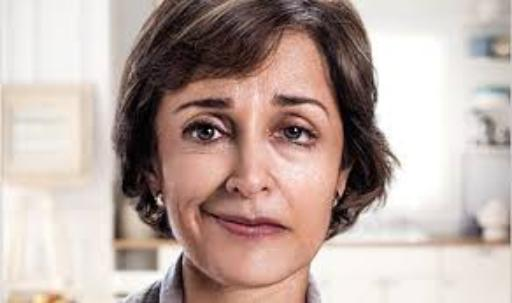left_eye: (274, 124, 320, 144)
left_lip_corner: (277, 221, 295, 235)
right_eye: (186, 122, 233, 143)
right_lip_corner: (200, 209, 225, 223)
